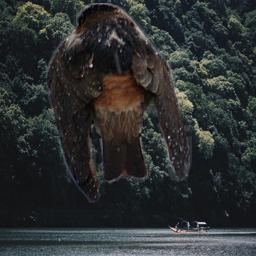Swallow: (46, 3, 192, 203)
